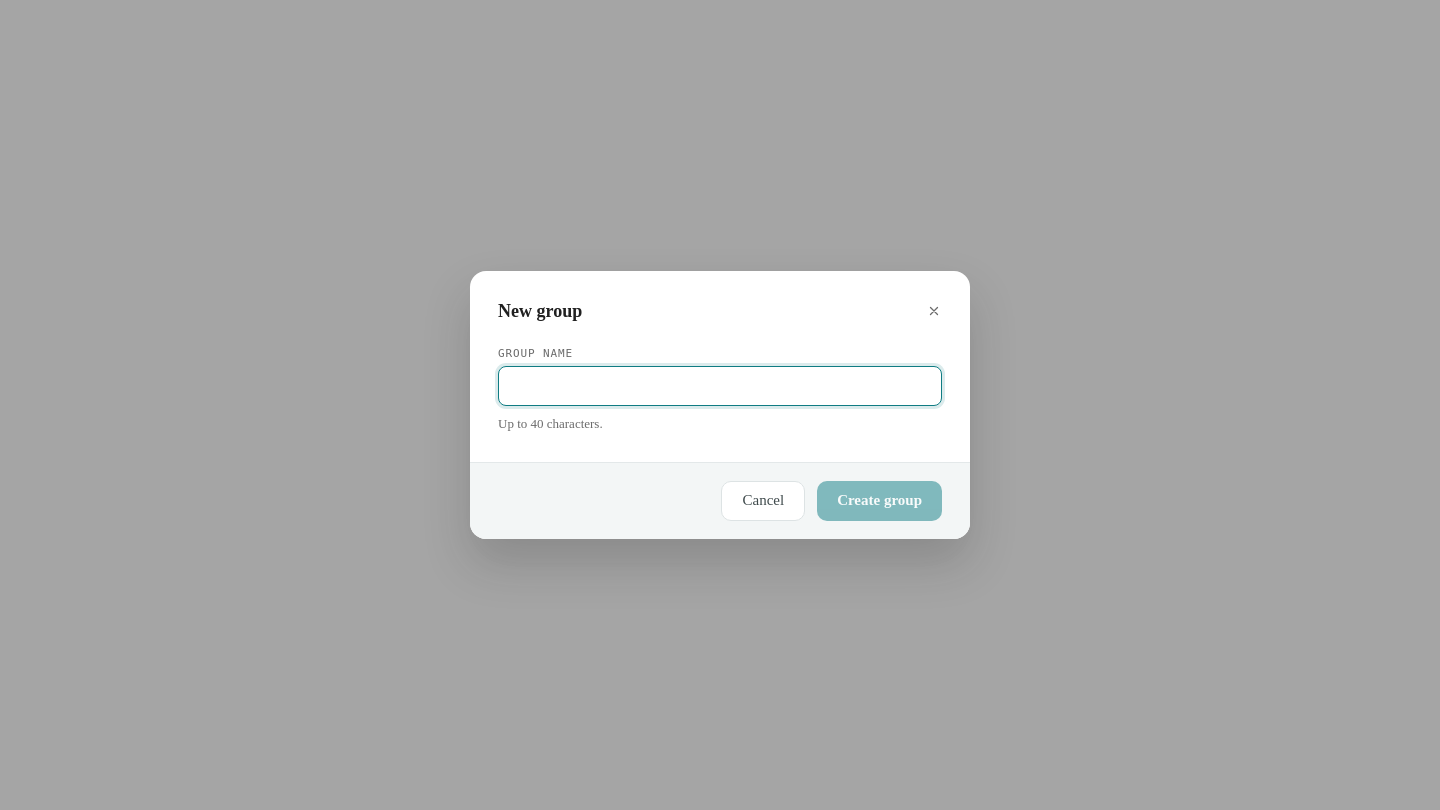
Scenario: NewGroupModal › rejects a name that already exists, ignoring case and surrounding spaces
Type " starters" into the field labelled "Group name".
click(722, 386); type(" starters")  # box [511, 367, 933, 405]
Then press Enter
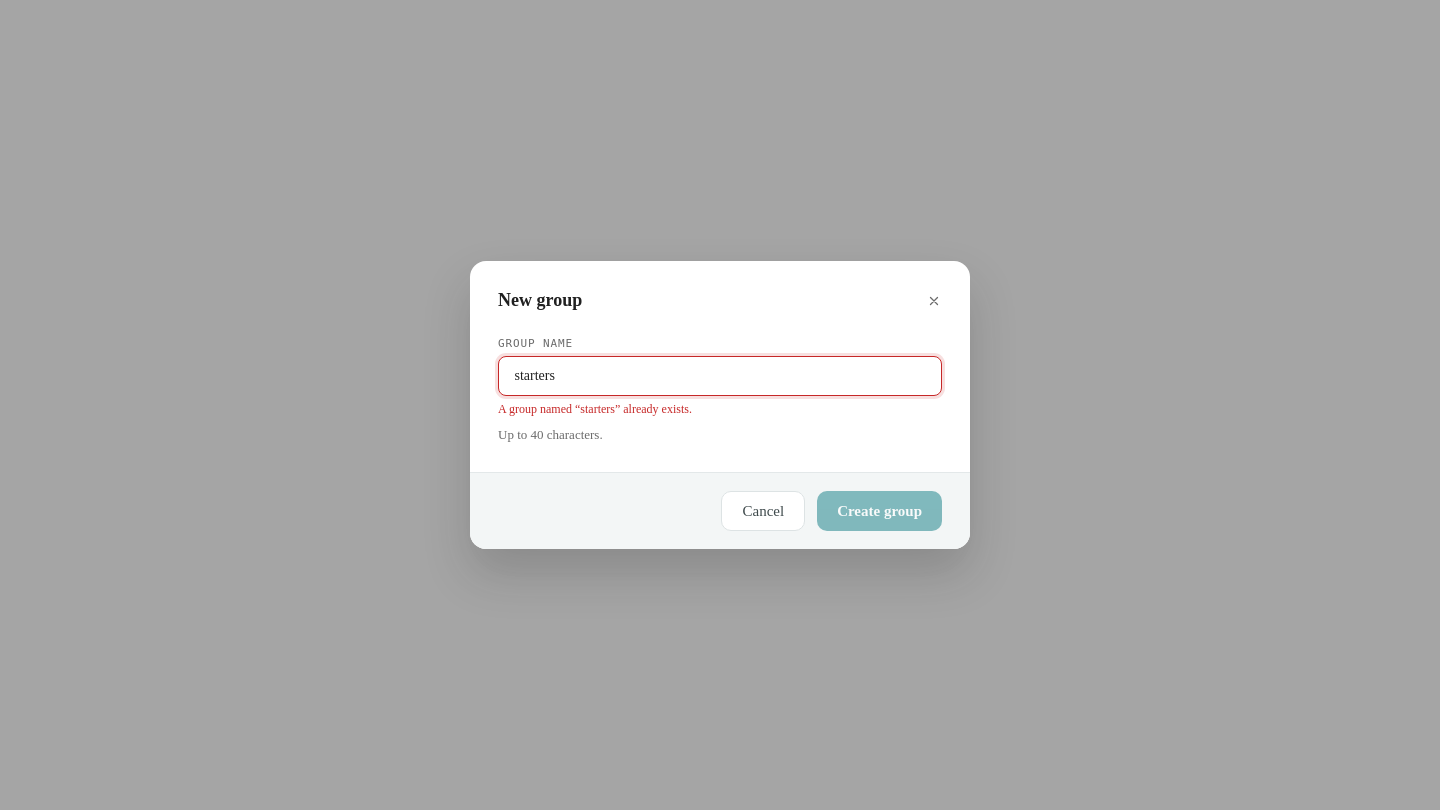
Check: the button "Create group" is disabled, box [817, 491, 942, 531]
Check: the message reads "A group named “starters” already exists.", box [498, 402, 692, 416]
